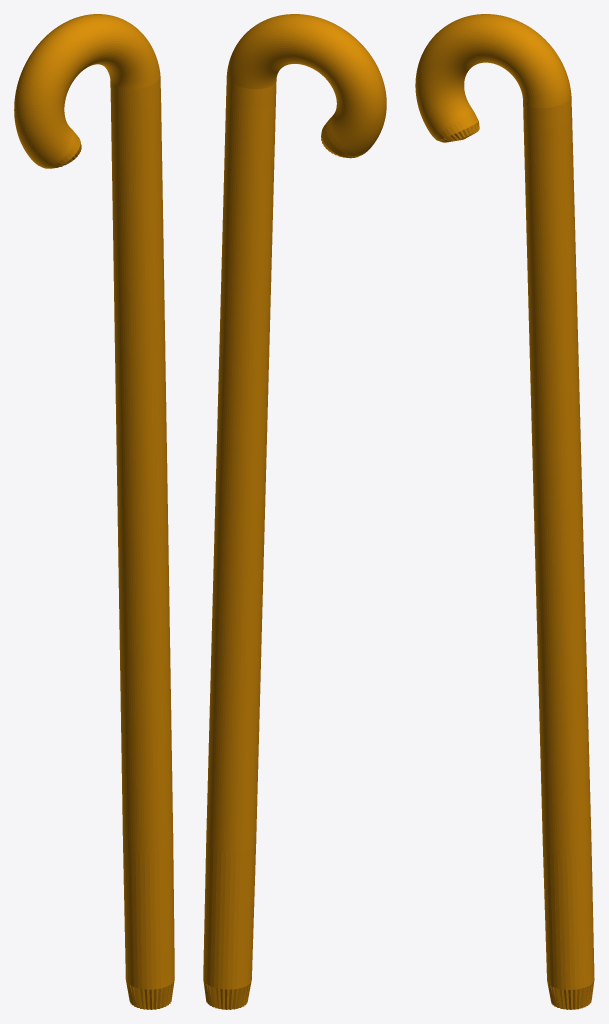
The model's file is Cane.fbx.
3 renders of one model, left to right at view 1: azimuth 30°, elevation 25°; view 2: azimuth 150°, elevation 25°; view 3: azimuth 330°, elevation 25°, orthographic. The views are drawn at different scales.
Visible parts, largest first — view 1: Walking Stick; view 2: Walking Stick; view 3: Walking Stick.
Part boxes in pixels (<box>): Walking Stick: <box>14,14,174,1009</box>; Walking Stick: <box>203,14,386,1009</box>; Walking Stick: <box>415,14,594,1009</box>.
Bounding box in the file's own units: 0.189 × 1.1 × 0.0741.
